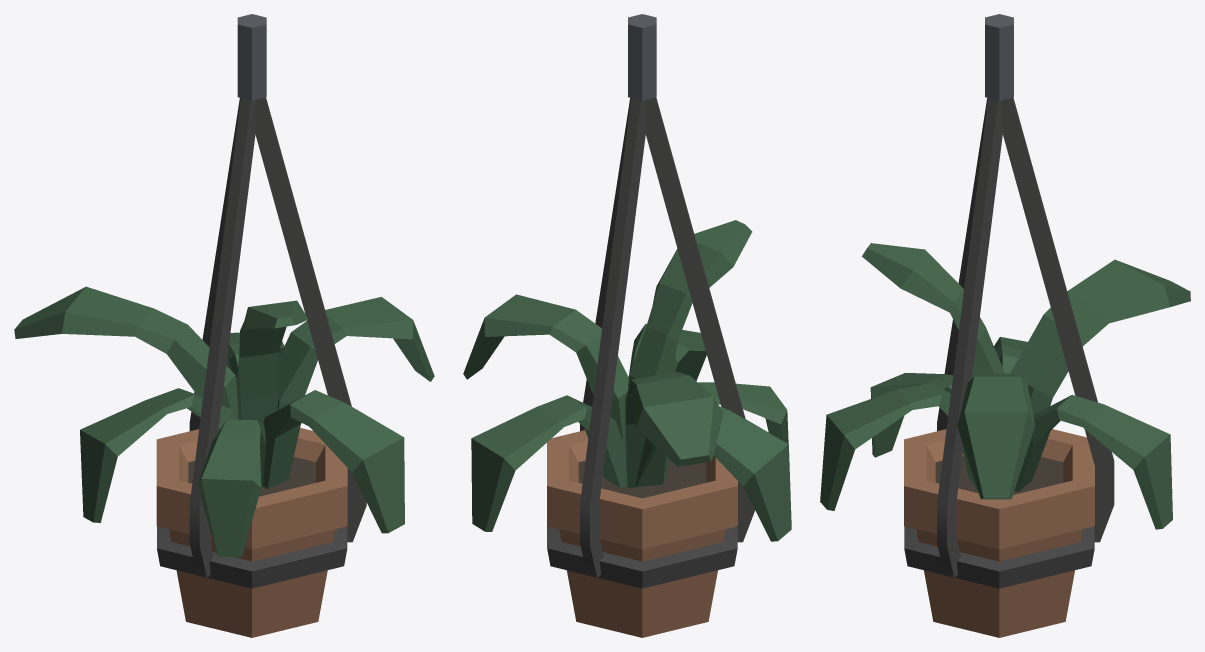
Rendered from SM_Prop_PotPlant_Hanging_02.fbx.
3 views of the same model, side by side, from view 1: azimuth 30°, elevation 25°; view 2: azimuth 150°, elevation 25°; view 3: azimuth 270°, elevation 25° (orthographic).
Parts seen in each view (by area): view 1: SM_Prop_PotPlant_Hanging_02; view 2: SM_Prop_PotPlant_Hanging_02; view 3: SM_Prop_PotPlant_Hanging_02.
Part boxes in pixels (x1=…): SM_Prop_PotPlant_Hanging_02: x1=14, y1=14, x2=434, y2=637; SM_Prop_PotPlant_Hanging_02: x1=463, y1=14, x2=791, y2=637; SM_Prop_PotPlant_Hanging_02: x1=820, y1=14, x2=1190, y2=637.
Bounding box in the file's own units: 48.12 × 81.8 × 47.01.
